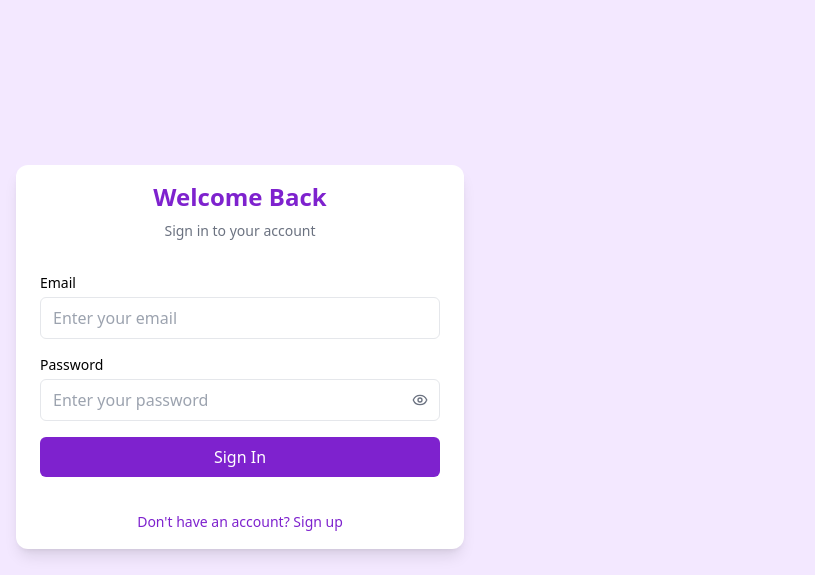
Test: UserLoginForm.vue › shows validation error toast for invalid password
Type "valid.email@gmail.com" into the field with id "email" at (240, 318), box [40, 297, 440, 339]
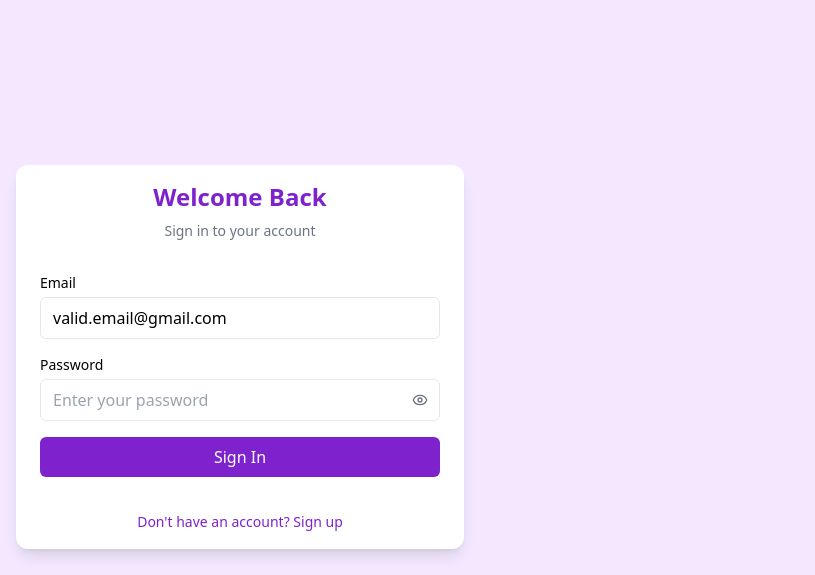
Type "1" into the password field labelled "Password" at (240, 400), box [40, 379, 440, 421]
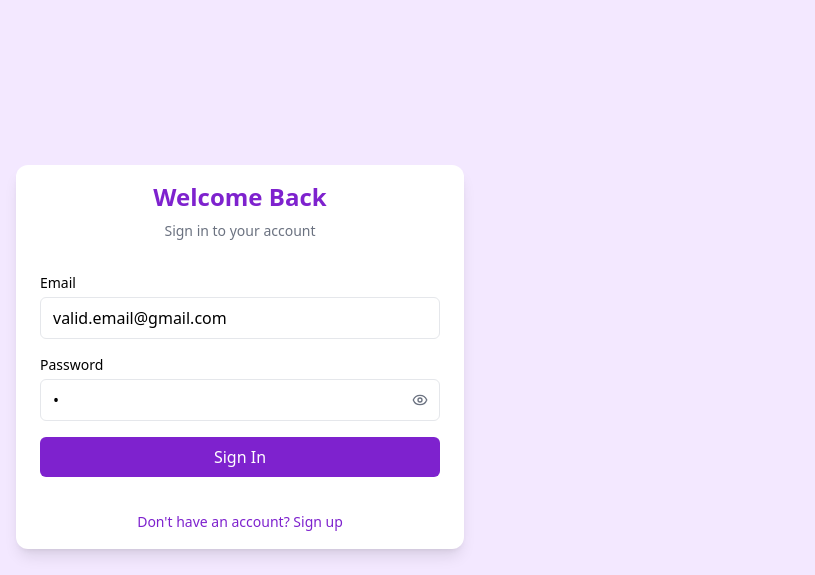
Submit the form, box [16, 257, 464, 493]
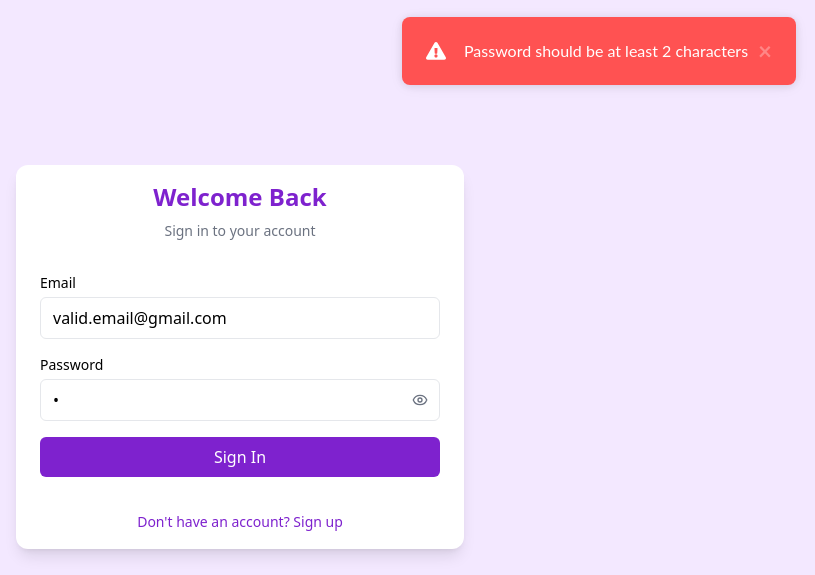
Result: the text "Password should be at least 2 characters" is shown at [464, 39, 748, 63]
